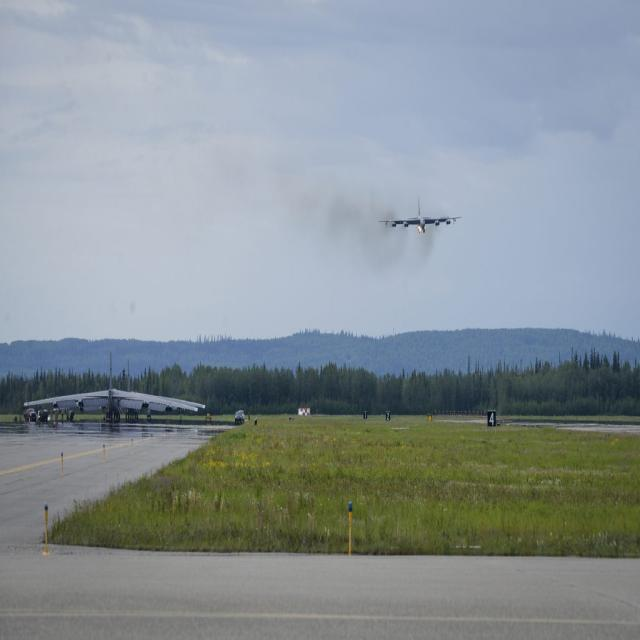MIL_Plane: (24, 350, 198, 422), (53, 358, 206, 422), (378, 196, 462, 233)
